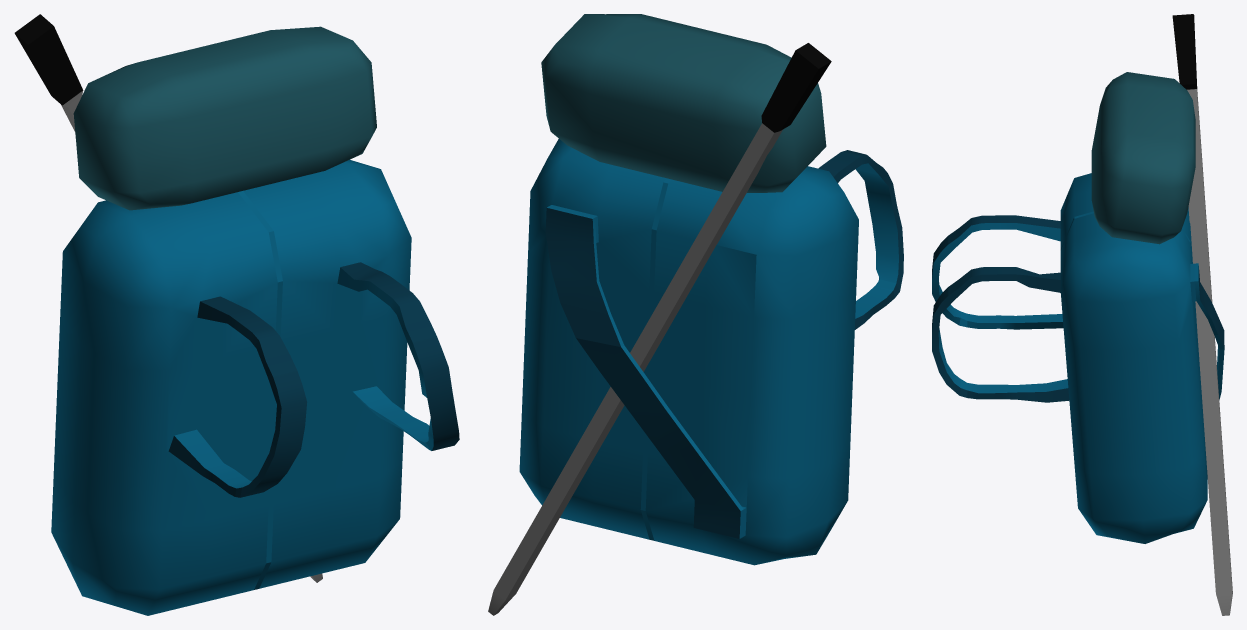
Rendered from Sacv1.fbx.
3 renders of one model, left to right at view 1: azimuth 30°, elevation 25°; view 2: azimuth 150°, elevation 25°; view 3: azimuth 270°, elevation 25°, orthographic. The views are drawn at different scales.
Visible parts, largest first — view 1: polySurface36; view 2: polySurface36; view 3: polySurface36.
Boxes of the visible parts, x1,y1,x2,y2 form: polySurface36: (14,14,459,615); polySurface36: (488,14,903,615); polySurface36: (932,14,1232,615).
Size of the model in its own units: 8.95 by 16.97 by 9.38.
